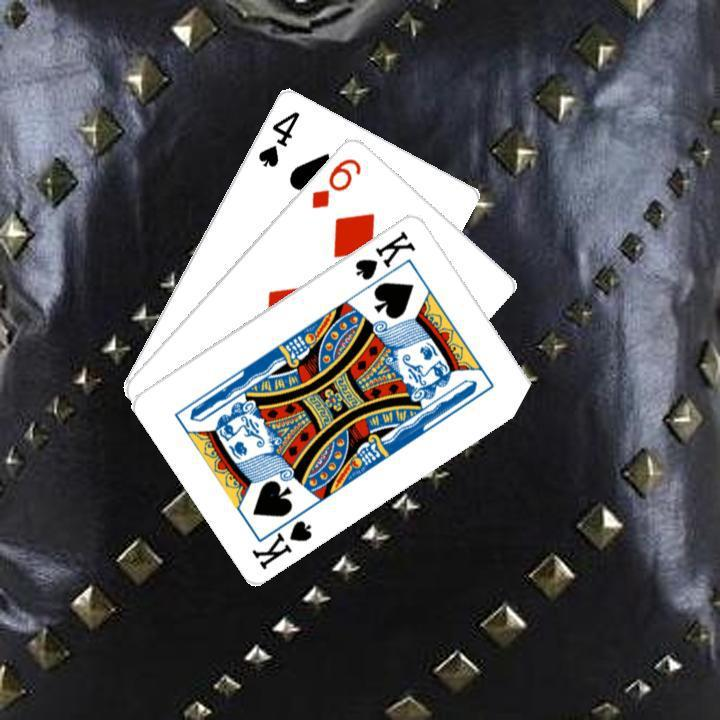4: (253, 106, 302, 169)
6: (307, 153, 364, 210)
K: (247, 503, 315, 571), (350, 225, 418, 282)
